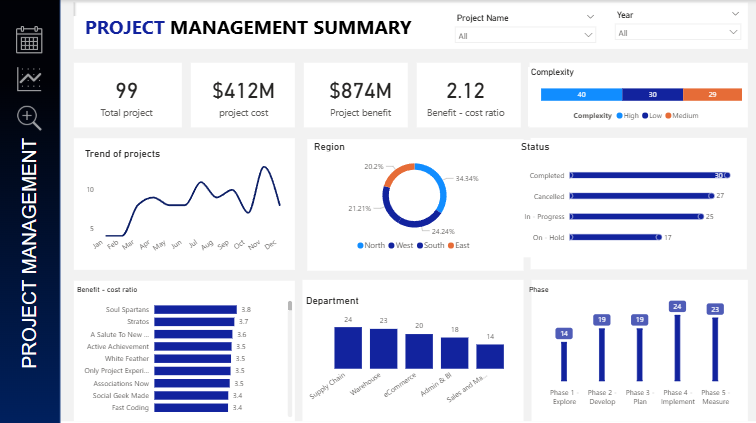

This screenshot's page, from the dashboard's own definition file:
{"tool":"powerbi","page":{"name":"Project Summary","canvas":[1280,720],"ordinal":0},"visuals":[{"type":"card","fields":{"Values":["Measure.Total project"]},"box":[127.7,112.5,176.4,94.1],"z":0},{"type":"card","fields":{"Values":["Measure.project cost"]},"box":[324.2,112.5,176.4,94.1],"z":1000},{"type":"card","fields":{"Values":["Measure.Project benefit"]},"box":[520.7,112.5,176.4,94.1],"z":2000},{"type":"card","fields":{"Values":["Measure.Benefit - cost ratio"]},"box":[697.1,112.5,176.4,94.1],"z":3000},{"type":"barChart","title":"Complexity","fields":{"Y":["Measure.Total project"],"Series":["Data.Complexity"]},"box":[890.3,112.5,367.9,100],"z":4000},{"type":"lineChart","title":"Trend of projects","fields":{"Y":["Measure.Total project"],"Category":["Date Table.Month name"]},"box":[141.1,246.9,347.7,196.5],"z":5000},{"type":"donutChart","title":"Region","fields":{"Y":["Measure.Total project"],"Category":["Data.Region"]},"box":[525.8,235.2,347.7,196.5],"z":6000},{"type":"barChart","title":"Benefit - cost ratio","fields":{"Y":["Measure.Benefit - cost ratio"],"Category":["Data.Project Name"]},"box":[127.7,478.7,372,227],"z":7000},{"type":"columnChart","title":"Department","fields":{"Y":["Measure.Total project"],"Category":["Data.Department"]},"box":[512.3,493.9,367.9,196.5],"z":8000},{"type":"barChart","title":"Status","fields":{"Y":["Measure.Total project"],"Category":["Data.Status"]},"box":[873.5,235.2,376.3,196.5],"z":9000},{"type":"columnChart","title":"Phase","fields":{"Y":["Measure.Total project"],"Category":["Data.Phase"]},"box":[886.9,478.7,374.6,211.7],"z":10000},{"type":"slicer","fields":{"Values":["Data.Project Name"]},"box":[757.6,16.8,257,62.2],"z":11000},{"type":"slicer","fields":{"Values":["Date Table.Year"]},"box":[1026.4,11.8,231.8,55.4],"z":12000},{"type":"textbox","box":[141.1,16.8,604.7,57.1],"z":13000},{"type":"image","box":[28.6,109.2,48,48],"z":13001},{"type":"image","box":[28.6,174.7,48,48],"z":13002},{"type":"image","box":[28.6,43.7,48,48],"z":13003}]}

Visuals, with their boxes on the page's 1280x720 design canvas (x1, y1, x2, y2). These are canvas units, not pixel positions in the 756x423 screenshot, which may show the page scaled, cropped or inside an application window:
card - Measure.Total project: bbox=[128, 112, 304, 207]
card - Measure.project cost: bbox=[324, 112, 501, 207]
card - Measure.Project benefit: bbox=[521, 112, 697, 207]
card - Measure.Benefit - cost ratio: bbox=[697, 112, 874, 207]
"Complexity" barChart: bbox=[890, 112, 1258, 212]
"Trend of projects" lineChart: bbox=[141, 247, 489, 443]
"Region" donutChart: bbox=[526, 235, 874, 432]
"Benefit - cost ratio" barChart: bbox=[128, 479, 500, 706]
"Department" columnChart: bbox=[512, 494, 880, 690]
"Status" barChart: bbox=[874, 235, 1250, 432]
"Phase" columnChart: bbox=[887, 479, 1262, 690]
slicer - Data.Project Name: bbox=[758, 17, 1015, 79]
slicer - Date Table.Year: bbox=[1026, 12, 1258, 67]
textbox: bbox=[141, 17, 746, 74]
image: bbox=[29, 109, 77, 157]
image: bbox=[29, 175, 77, 223]
image: bbox=[29, 44, 77, 92]
